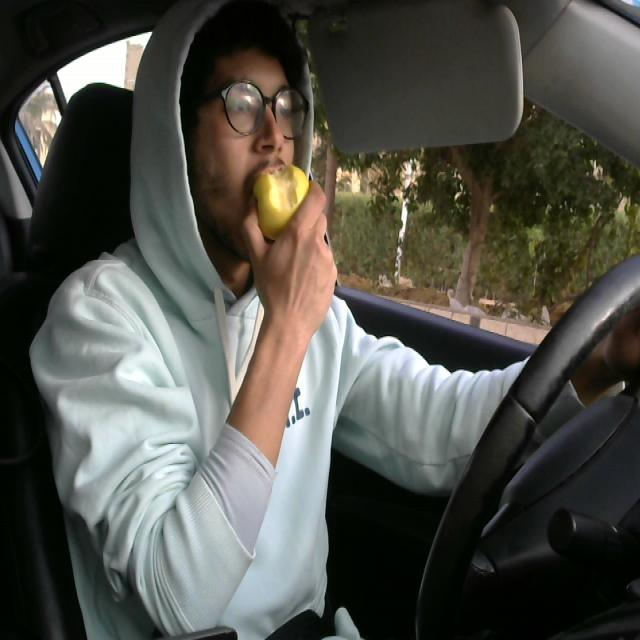eating: (250, 153, 318, 242)
